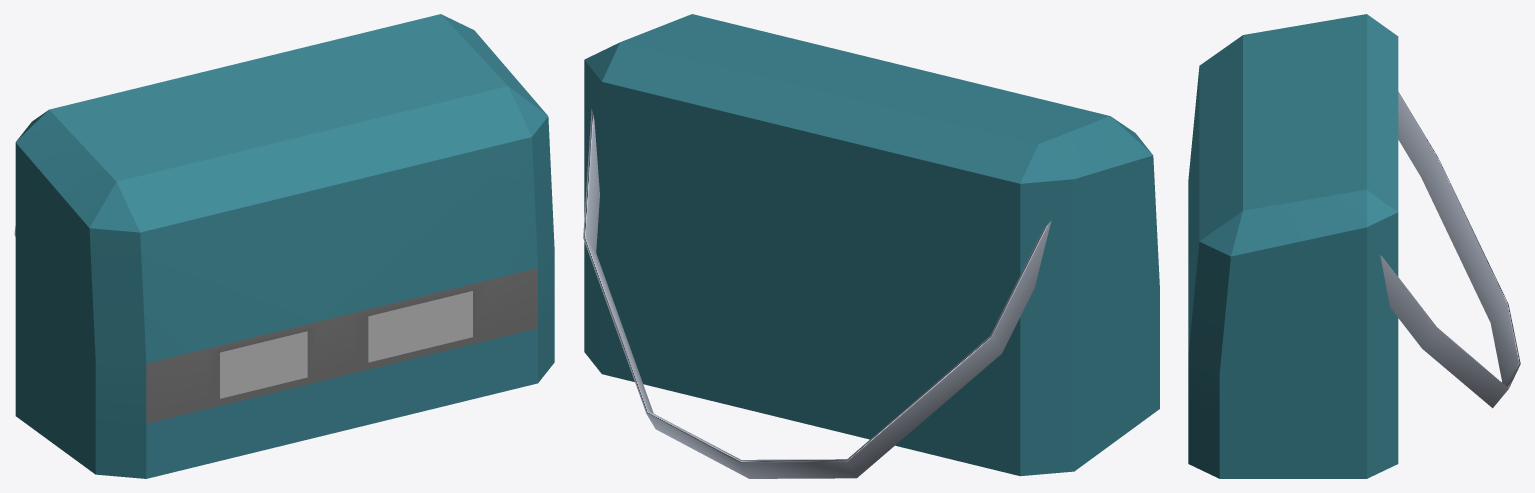
The picture shows the model from 3 angles, left to right: view 1: azimuth 30°, elevation 25°; view 2: azimuth 150°, elevation 25°; view 3: azimuth 270°, elevation 25°; orthographic projection. The views are drawn at different scales.
Visible parts, largest first — view 1: shubao_3:polySurface439; view 2: shubao_3:polySurface439; view 3: shubao_3:polySurface439.
Part boxes in pixels (bbox=[...]): shubao_3:polySurface439: bbox=[14, 14, 554, 478]; shubao_3:polySurface439: bbox=[583, 14, 1159, 478]; shubao_3:polySurface439: bbox=[1188, 14, 1520, 478].
Size of the model in its own units: 39.32 by 25.08 by 26.84.
